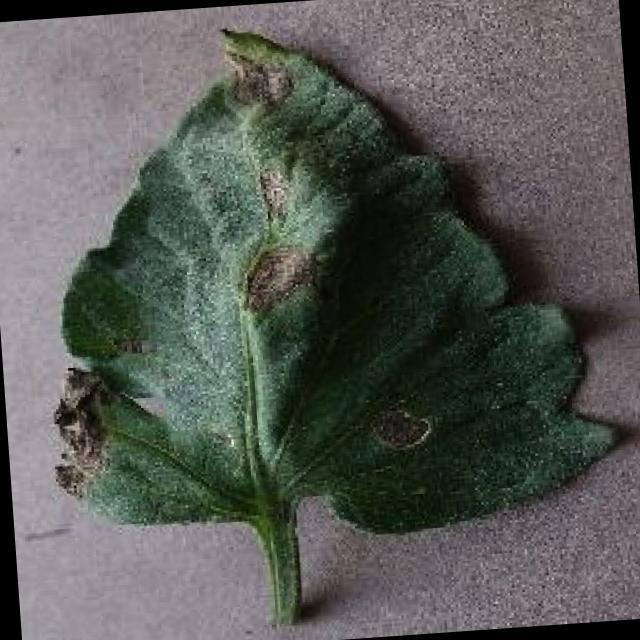Tomato Early blight leaf: (26, 2, 622, 562)
